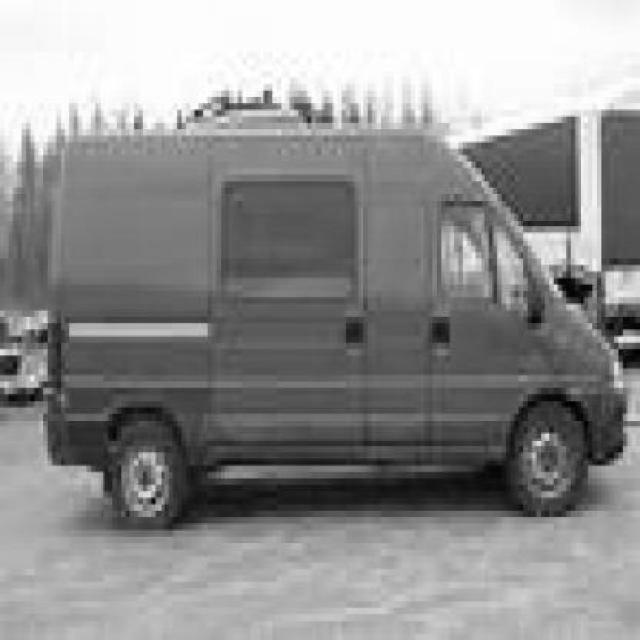Van: (43, 125, 626, 530)
